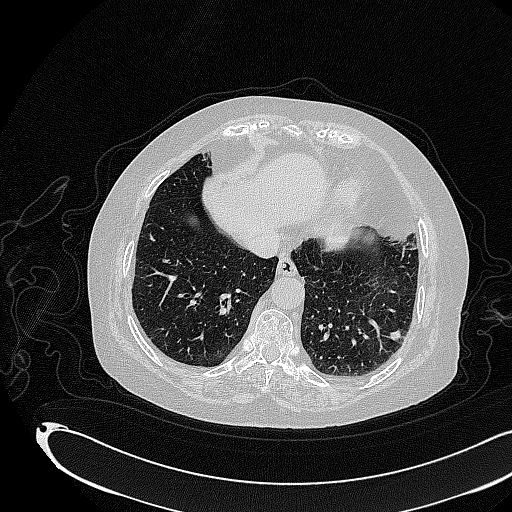nodule: (389, 329, 401, 341)
